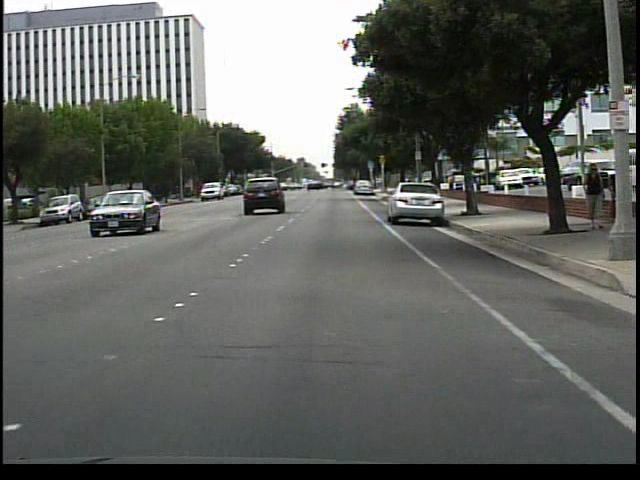person: (578, 158, 605, 234), (607, 160, 627, 230)
